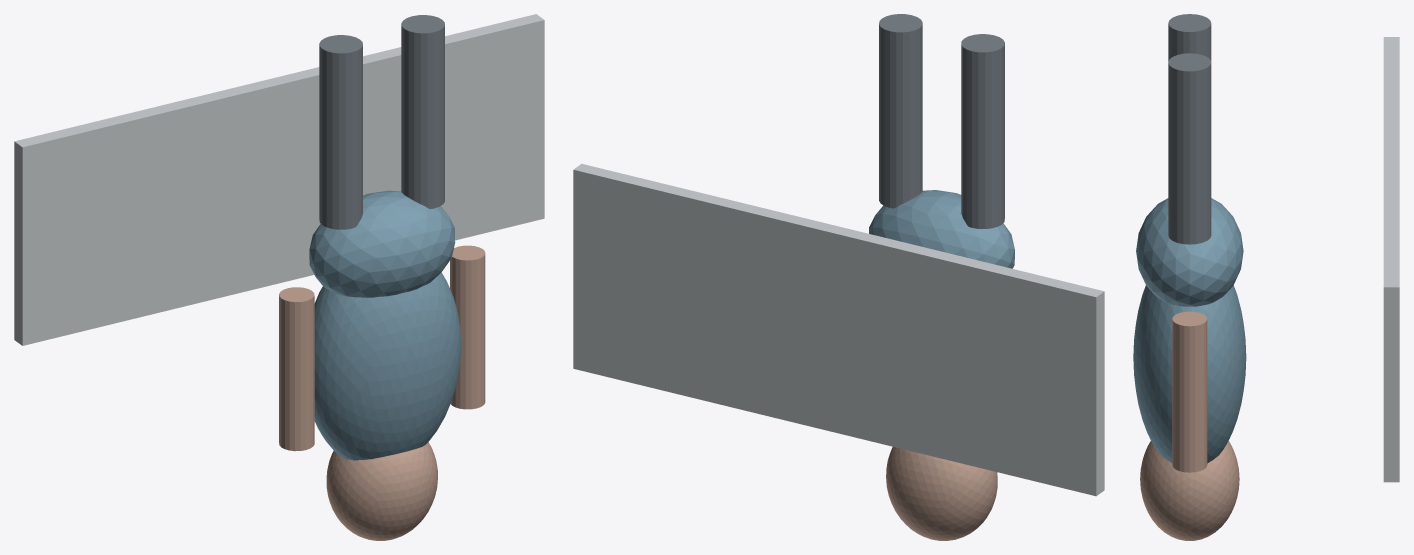
The model's file is dorsal-high.glb.
The picture shows the model from 3 angles, left to right: view 1: azimuth 30°, elevation 25°; view 2: azimuth 150°, elevation 25°; view 3: azimuth 270°, elevation 25°; orthographic projection. The views are drawn at different scales.
Visible parts, largest first — view 1: reference_surface, torso, pelvis, left_leg, right_leg, head, left_arm, right_arm; view 2: reference_surface, left_leg, right_leg, head, pelvis; view 3: torso, right_leg, pelvis, reference_surface, head, right_arm, left_leg.
Boxes of the visible parts, box(x1,y1,x2,y2) form: reference_surface: box(14, 14, 544, 345); torso: box(314, 272, 460, 460); pelvis: box(309, 190, 455, 297); left_leg: box(319, 35, 362, 229); right_leg: box(401, 15, 444, 208); head: box(326, 442, 437, 540); left_arm: box(279, 287, 314, 451); right_arm: box(450, 245, 485, 409); reference_surface: box(573, 163, 1104, 496); left_leg: box(961, 34, 1004, 228); right_leg: box(879, 14, 922, 208); head: box(886, 447, 997, 540); pelvis: box(869, 190, 1014, 268); torso: box(1133, 285, 1246, 463); right_leg: box(1168, 53, 1211, 244); pelvis: box(1136, 198, 1243, 306); reference_surface: box(1383, 37, 1399, 482); head: box(1140, 441, 1239, 540); right_arm: box(1172, 311, 1207, 472); left_leg: box(1168, 14, 1211, 61).
Size of the model in its own units: 4.4 by 4.05 by 1.98.
